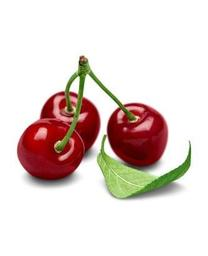cherry: (17, 117, 85, 181), (105, 103, 168, 168), (40, 91, 100, 157)
